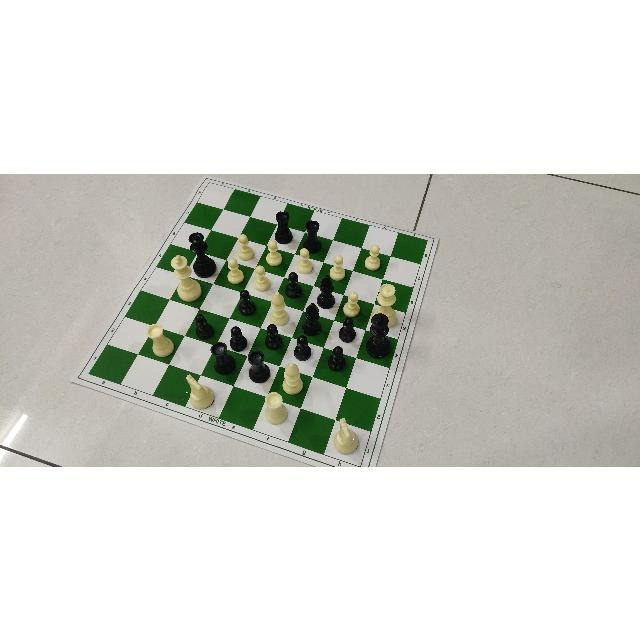black-bishop: (317, 274, 335, 308), (303, 301, 321, 334)
black-king: (368, 313, 392, 358)
black-pawn: (237, 288, 257, 316), (194, 312, 214, 338), (264, 323, 283, 347), (296, 334, 312, 359), (332, 344, 346, 372), (342, 315, 356, 341), (229, 324, 244, 347), (289, 270, 301, 294)
black-queen: (190, 232, 216, 277)
black-rook: (212, 342, 236, 374), (247, 349, 270, 382), (274, 211, 293, 243), (303, 220, 320, 251)
white-bishop: (282, 363, 303, 395), (271, 290, 289, 325)
white-king: (170, 253, 202, 300)
white-knight: (334, 416, 360, 454), (186, 375, 213, 409)
white-pawn: (362, 241, 381, 270), (226, 258, 245, 284), (343, 290, 362, 315), (264, 238, 281, 265), (252, 264, 269, 290), (238, 232, 255, 257), (331, 253, 349, 275), (298, 247, 312, 273)
white-queen: (375, 282, 398, 328)
white-rook: (149, 323, 175, 355), (266, 391, 288, 425)
